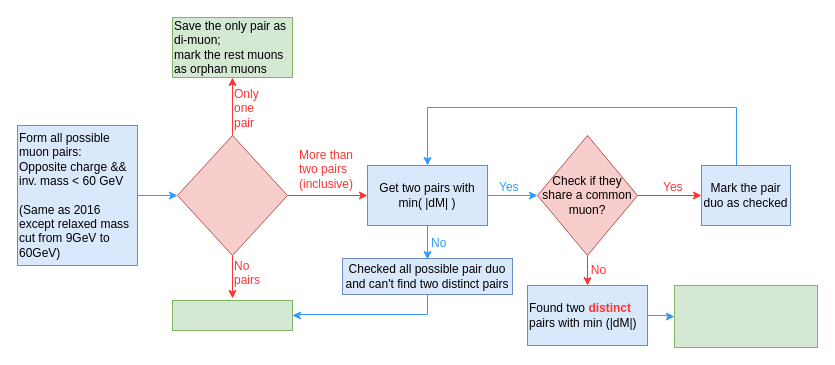
Image size: 835x365. Some labels were removed from this diagram. The shapes that lost their labels are listed below. From the top down, each one's box as (x1, y1, x2, y2) in pixels, then its label:
(176, 134, 288, 256): How many pairs formed?
(172, 300, 292, 330): Save all muons as orphan muons
(674, 284, 818, 348): Save two pairs as signal di-muon candidates; Mark the rest muons as orphan muons
